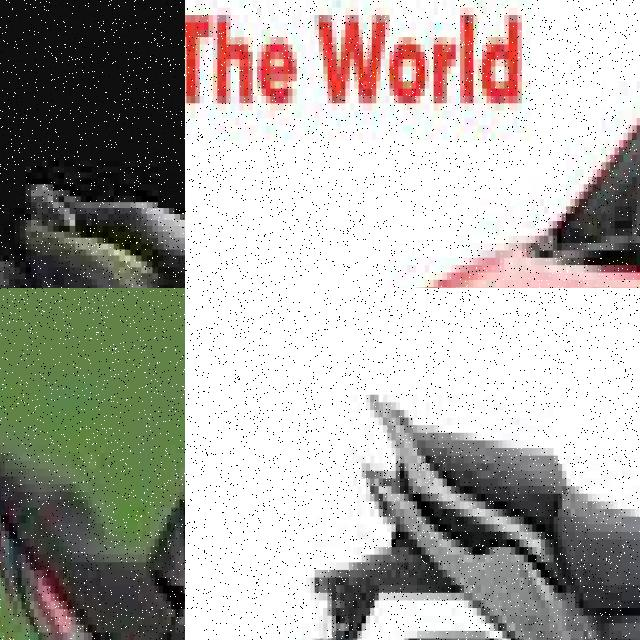bike: (289, 288, 640, 640), (0, 289, 185, 640), (0, 0, 185, 288)
car: (248, 0, 640, 288)
